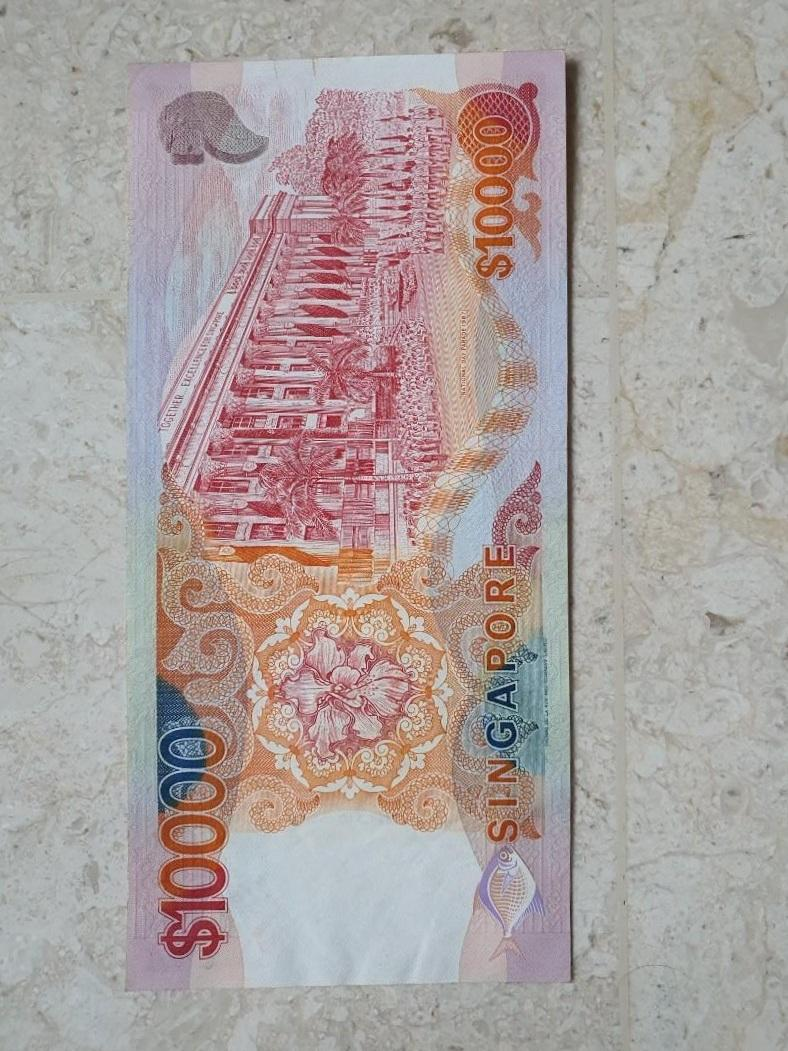10000SingaporeDollar: (133, 58, 567, 981)
